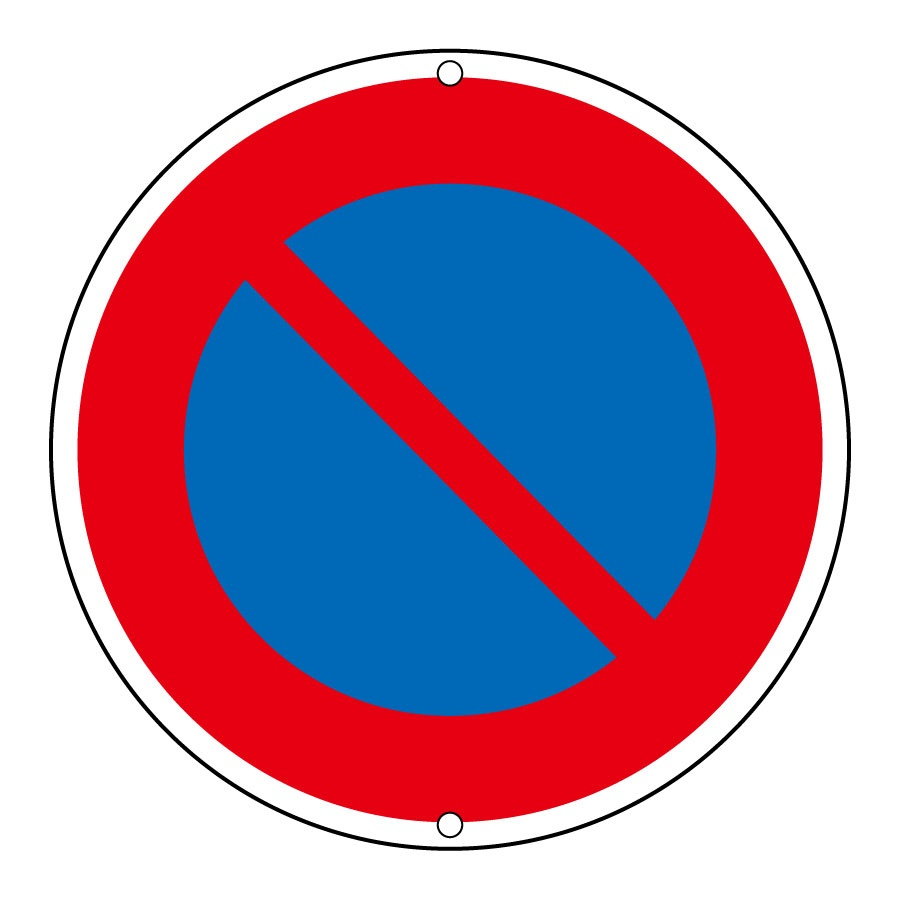Prohibition_sign: (25, 19, 884, 876)
